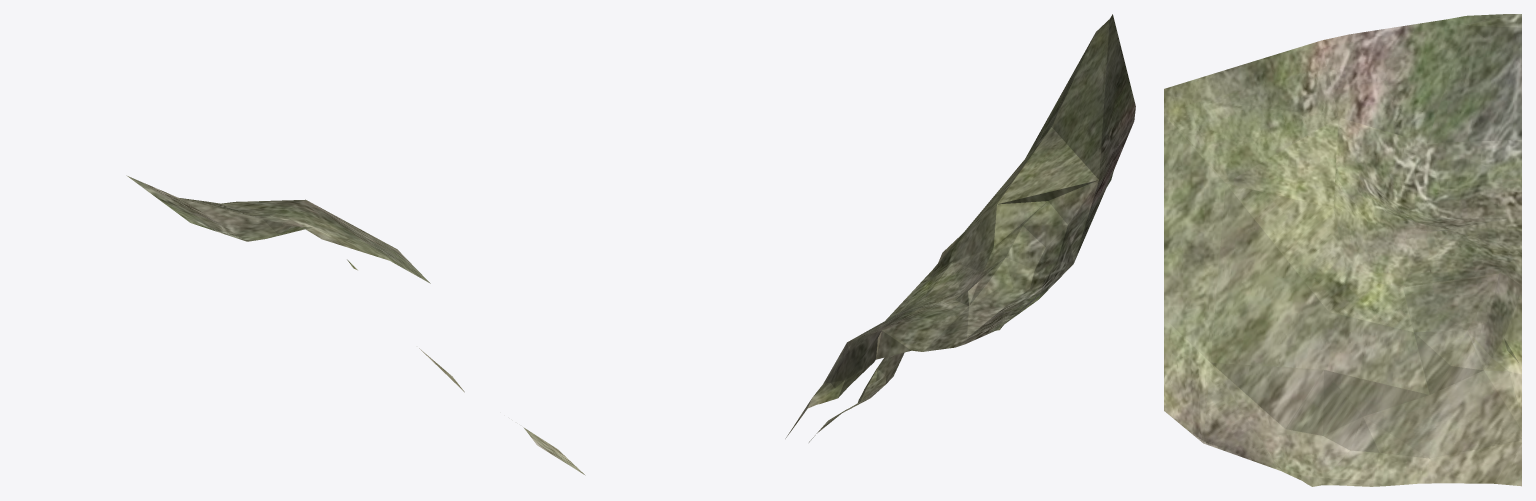
3 renders of one model, left to right at view 1: azimuth 30°, elevation 25°; view 2: azimuth 150°, elevation 25°; view 3: azimuth 270°, elevation 25°, orthographic. The views are drawn at different scales.
Size of the model in its own units: 5.79 by 5.9 by 5.9.
3 materials, 3 textured.
